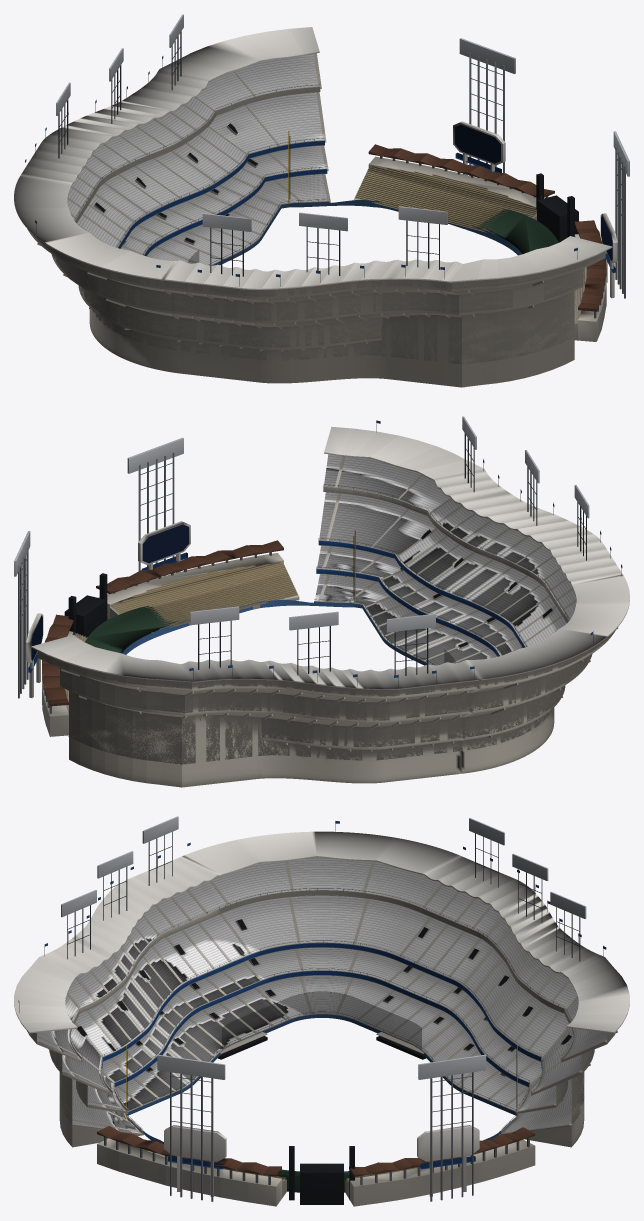
File: dodger.glb
3 renders of one model, top to bottom at view 1: azimuth 30°, elevation 25°; view 2: azimuth 150°, elevation 25°; view 3: azimuth 270°, elevation 25°, orthographic. The views are drawn at different scales.
Parts seen in each view (by area): view 1: Deck_field, Roof, SeatRows_reserve, Vomitory_Walls, SeatRows_top, Pavilion_Benches_0, SeatRows_field, SeatRows_loge, Roof_Light_Bank_22_1, Pavilion_Roof_2, Roof_Light_Posts, Pavilion_Frame_32 (+5 smaller); view 2: Deck_field, Roof, SeatRows_reserve, SeatRows_top, Vomitory_Walls, Pavilion_Benches_0, SeatRows_field, SeatRows_loge, Roof_Light_Bank_22_1, Pavilion_Roof_2, Roof_Light_Posts, Pavilion_Frame_32 (+5 smaller); view 3: Roof, SeatRows_reserve, Vomitory_Walls, SeatRows_field, SeatRows_top, SeatRows_loge, Deck_field, Roof_Light_Bank_22_1, LED_Ribbon_loge, Foul_Pole_Screen_1B, Pavilion_Frame_32, Vomitory_Openings (+3 smaller).
Boxes of the visible parts, x1=… form: Deck_field: x1=27, y1=86, x2=605, y2=387; Roof: x1=14, y1=27, x2=617, y2=298; SeatRows_reserve: x1=77, y1=92, x2=322, y2=247; Vomitory_Walls: x1=37, y1=53, x2=606, y2=364; SeatRows_top: x1=67, y1=54, x2=318, y2=220; Pavilion_Benches_0: x1=355, y1=166, x2=586, y2=322; SeatRows_field: x1=147, y1=174, x2=327, y2=265; SeatRows_loge: x1=120, y1=146, x2=325, y2=253; Roof_Light_Bank_22_1: x1=56, y1=14, x2=629, y2=231; Pavilion_Roof_2: x1=368, y1=144, x2=606, y2=311; Roof_Light_Posts: x1=35, y1=31, x2=577, y2=286; Pavilion_Frame_32: x1=380, y1=52, x2=625, y2=318; Deck_field: x1=38, y1=486, x2=616, y2=787; Roof: x1=26, y1=426, x2=629, y2=697; SeatRows_reserve: x1=319, y1=492, x2=566, y2=646; SeatRows_top: x1=324, y1=454, x2=576, y2=620; Vomitory_Walls: x1=37, y1=456, x2=618, y2=764; Pavilion_Benches_0: x1=65, y1=562, x2=297, y2=714; SeatRows_field: x1=314, y1=574, x2=497, y2=665; SeatRows_loge: x1=317, y1=545, x2=521, y2=655; Roof_Light_Bank_22_1: x1=14, y1=416, x2=589, y2=632; Pavilion_Roof_2: x1=42, y1=540, x2=283, y2=706; Roof_Light_Posts: x1=193, y1=423, x2=621, y2=686; Pavilion_Frame_32: x1=18, y1=452, x2=271, y2=713; Roof: x1=14, y1=831, x2=629, y2=1196; SeatRows_reserve: x1=62, y1=895, x2=581, y2=1092; Vomitory_Walls: x1=30, y1=861, x2=617, y2=1206; SeatRows_field: x1=72, y1=975, x2=571, y2=1133; SeatRows_top: x1=36, y1=857, x2=607, y2=1059; SeatRows_loge: x1=87, y1=947, x2=556, y2=1111; Deck_field: x1=27, y1=890, x2=616, y2=1147; Roof_Light_Bank_22_1: x1=61, y1=816, x2=586, y2=1079; LED_Ribbon_loge: x1=101, y1=943, x2=542, y2=1169; Foul_Pole_Screen_1B: x1=127, y1=992, x2=516, y2=1107; Pavilion_Frame_32: x1=104, y1=1072, x2=529, y2=1201; Vomitory_Openings: x1=77, y1=919, x2=571, y2=1204.
Bounding box in the file's own units: 218 × 73.59 × 225.
Materials: 21 (4 with a texture image).
